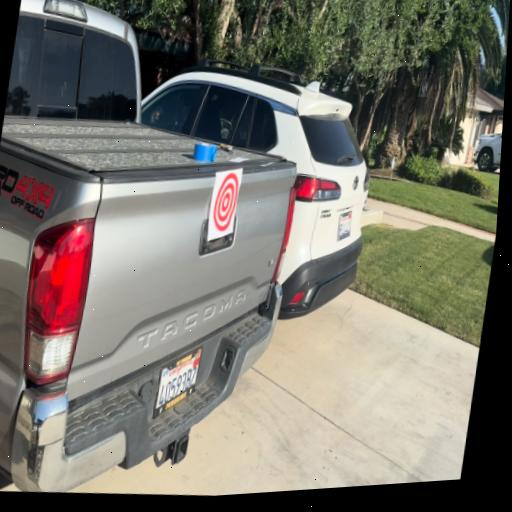bullseye: (209, 170, 241, 238)
